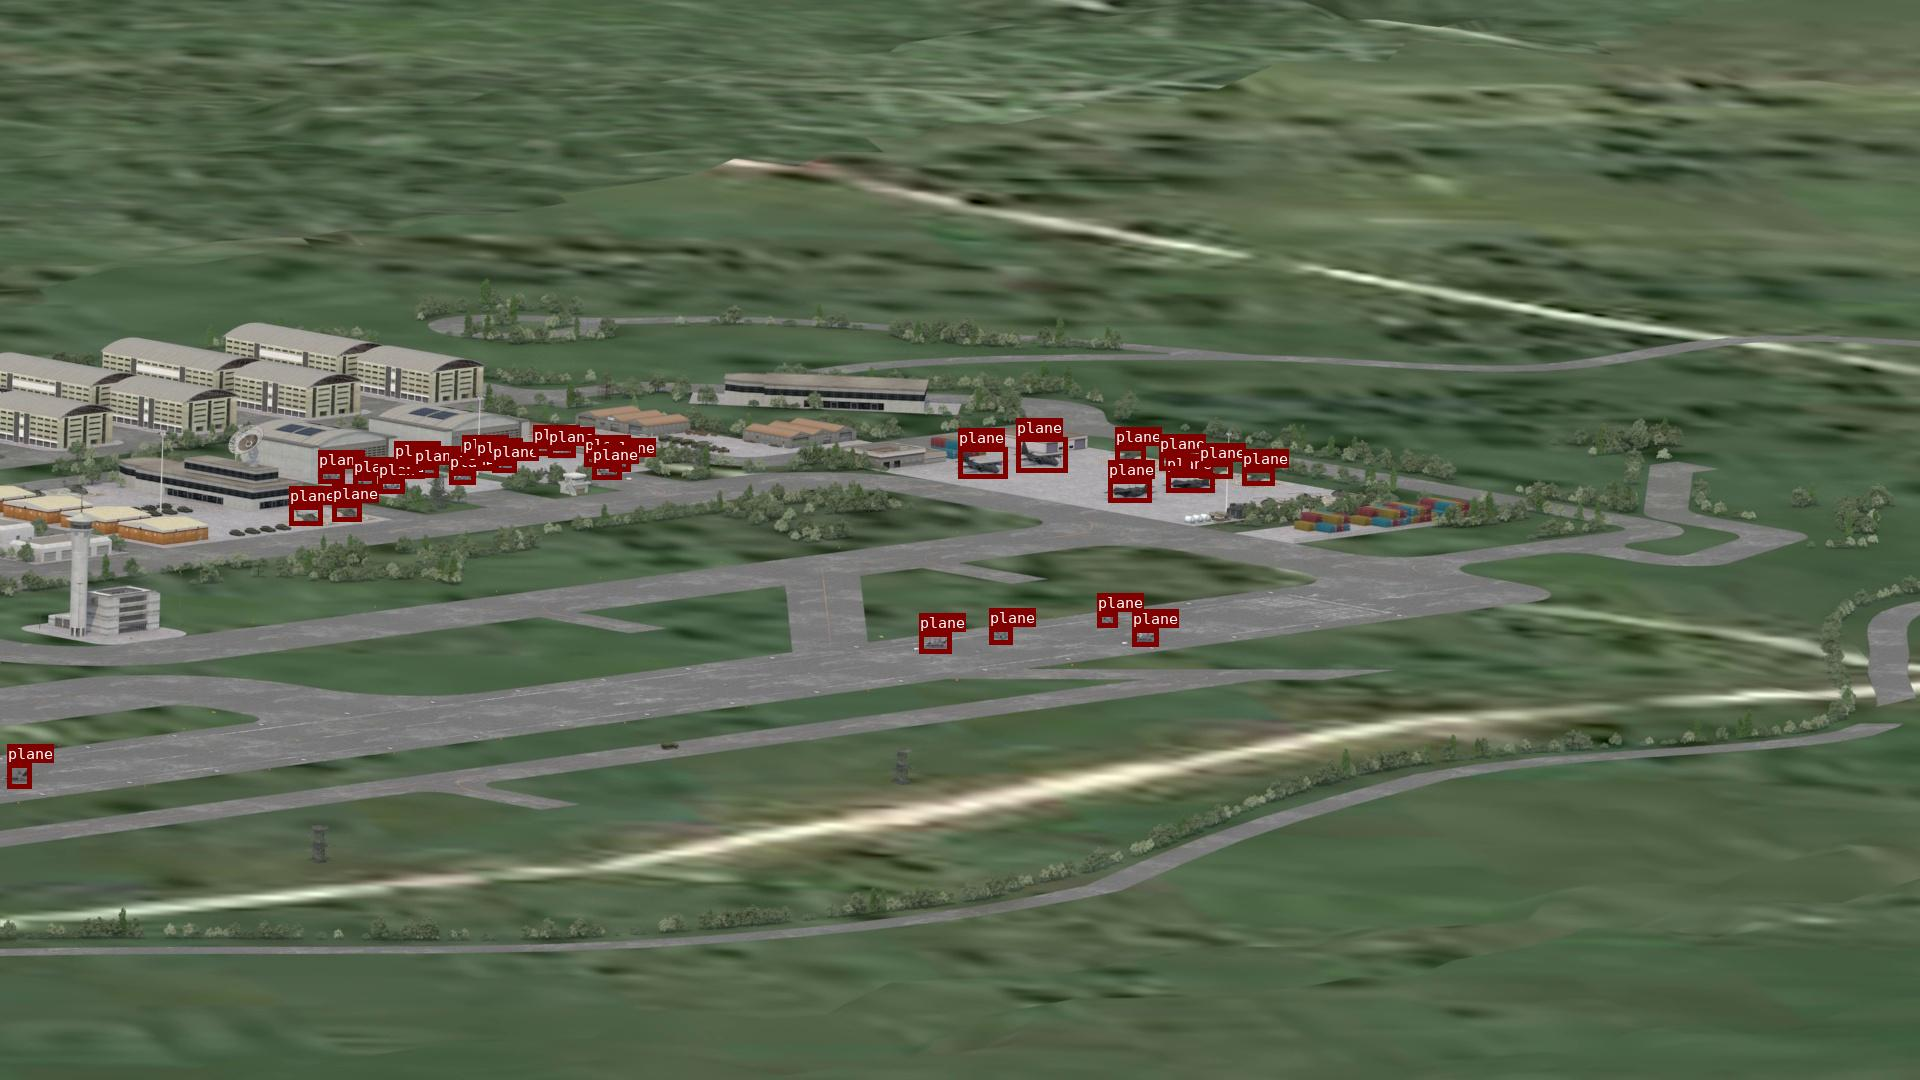plane: (1015, 436, 1067, 472), (957, 447, 1007, 477), (1108, 479, 1151, 502), (1166, 473, 1215, 492), (919, 632, 951, 653), (289, 505, 322, 525), (7, 764, 32, 789), (1242, 468, 1274, 485), (332, 502, 361, 521), (1199, 462, 1232, 477), (1116, 446, 1145, 463), (1131, 628, 1158, 646), (1159, 454, 1189, 469), (592, 464, 621, 479), (989, 626, 1011, 644), (378, 479, 404, 493), (318, 469, 344, 483), (448, 471, 475, 484), (549, 446, 575, 458), (1097, 612, 1117, 626), (414, 465, 438, 477), (584, 454, 608, 465), (609, 458, 630, 471), (353, 476, 376, 488), (476, 458, 498, 469), (394, 460, 414, 473), (492, 462, 516, 472), (462, 454, 480, 464), (533, 444, 551, 455)
